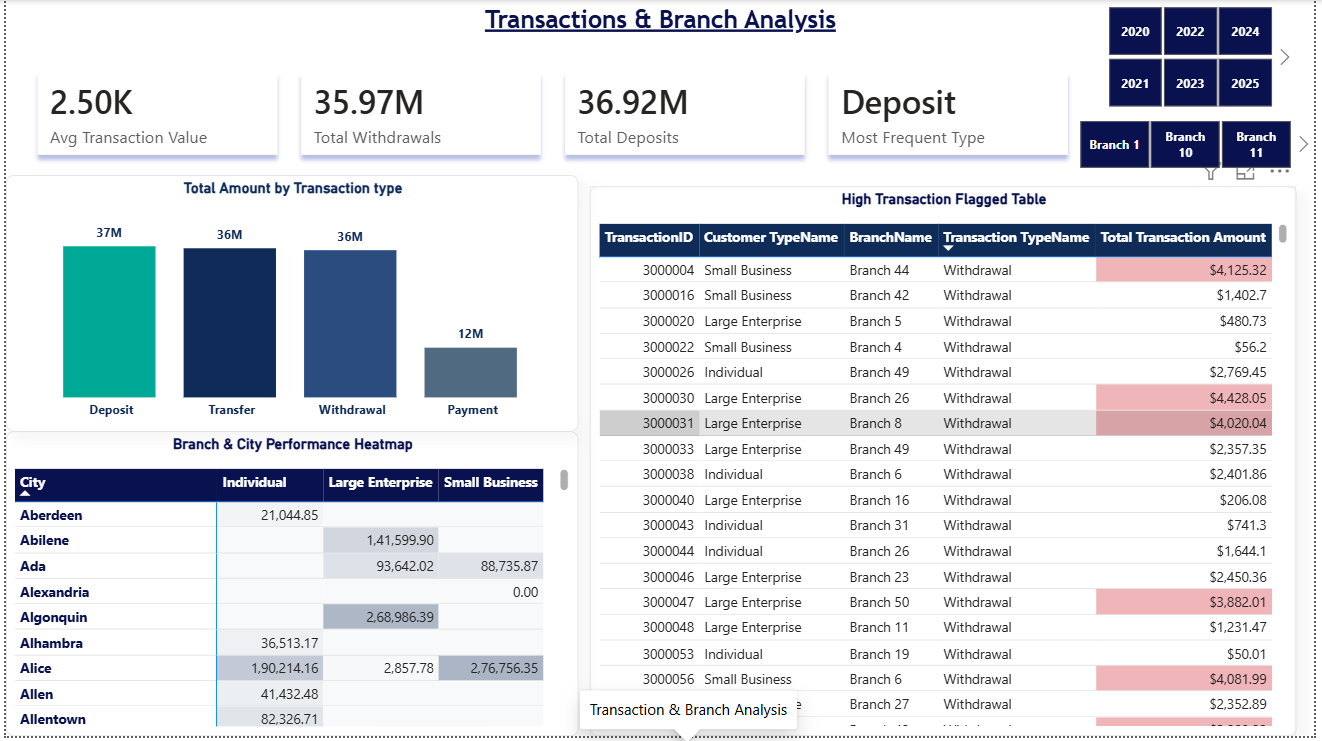

Layout of this report page (visuals, bound fields, positions):
{"tool":"powerbi","page":{"name":"Transaction & Branch Analysis","canvas":[1280,720],"ordinal":2},"visuals":[{"type":"cardVisual","fields":{"Data":["calculation.Avg Transaction Value","calculation.Total Withdrawals","calculation.Total Deposits","calculation.Most Frequent Type"]},"box":[0,38.9,1070.1,144],"z":0},{"type":"textbox","box":[0,0,1280.3,38.7],"z":1000},{"type":"clusteredColumnChart","title":"Total Amount by Transaction type","fields":{"Category":["transaction_types.TypeName"],"Y":["Sum(transactions.Amount)"]},"box":[0,170.7,560,251.6],"z":2000},{"type":"pivotTable","title":"Branch & City Performance Heatmap","fields":{"Rows":["addresses.City"],"Values":["calculation.Total Balance"],"Columns":["customer_types.TypeName"]},"box":[0,422.4,559.7,298.2],"z":3000},{"type":"tableEx","title":"High Transaction Flagged Table","fields":{"Values":["transactions.TransactionID","customer_types.TypeName","branches.BranchName","transaction_types.TypeName","calculation.Total Transaction Amount"]},"box":[570.5,182.7,691.8,537.6],"z":4000},{"type":"slicer","fields":{"Values":["Calendar table.Year"]},"box":[1052.7,0,209.6,110.8],"z":5000},{"type":"slicer","fields":{"Values":["branches.BranchName"]},"box":[1024.2,110.8,256.1,59.9],"z":6000}]}

Visuals, with their boxes in screenshot pixels (x1, y1, x2, y2), scaled from the page's 1280x720 canvas onto the 1322x741 screenshot:
cardVisual - calculation.Avg Transaction Value x calculation.Total Withdrawals: bbox=[0, 40, 1105, 188]
textbox: bbox=[0, 0, 1321, 40]
"Total Amount by Transaction type" clusteredColumnChart: bbox=[0, 176, 578, 435]
"Branch & City Performance Heatmap" pivotTable: bbox=[0, 435, 578, 740]
"High Transaction Flagged Table" tableEx: bbox=[589, 188, 1304, 740]
slicer - Calendar table.Year: bbox=[1087, 0, 1304, 114]
slicer - branches.BranchName: bbox=[1058, 114, 1321, 176]
